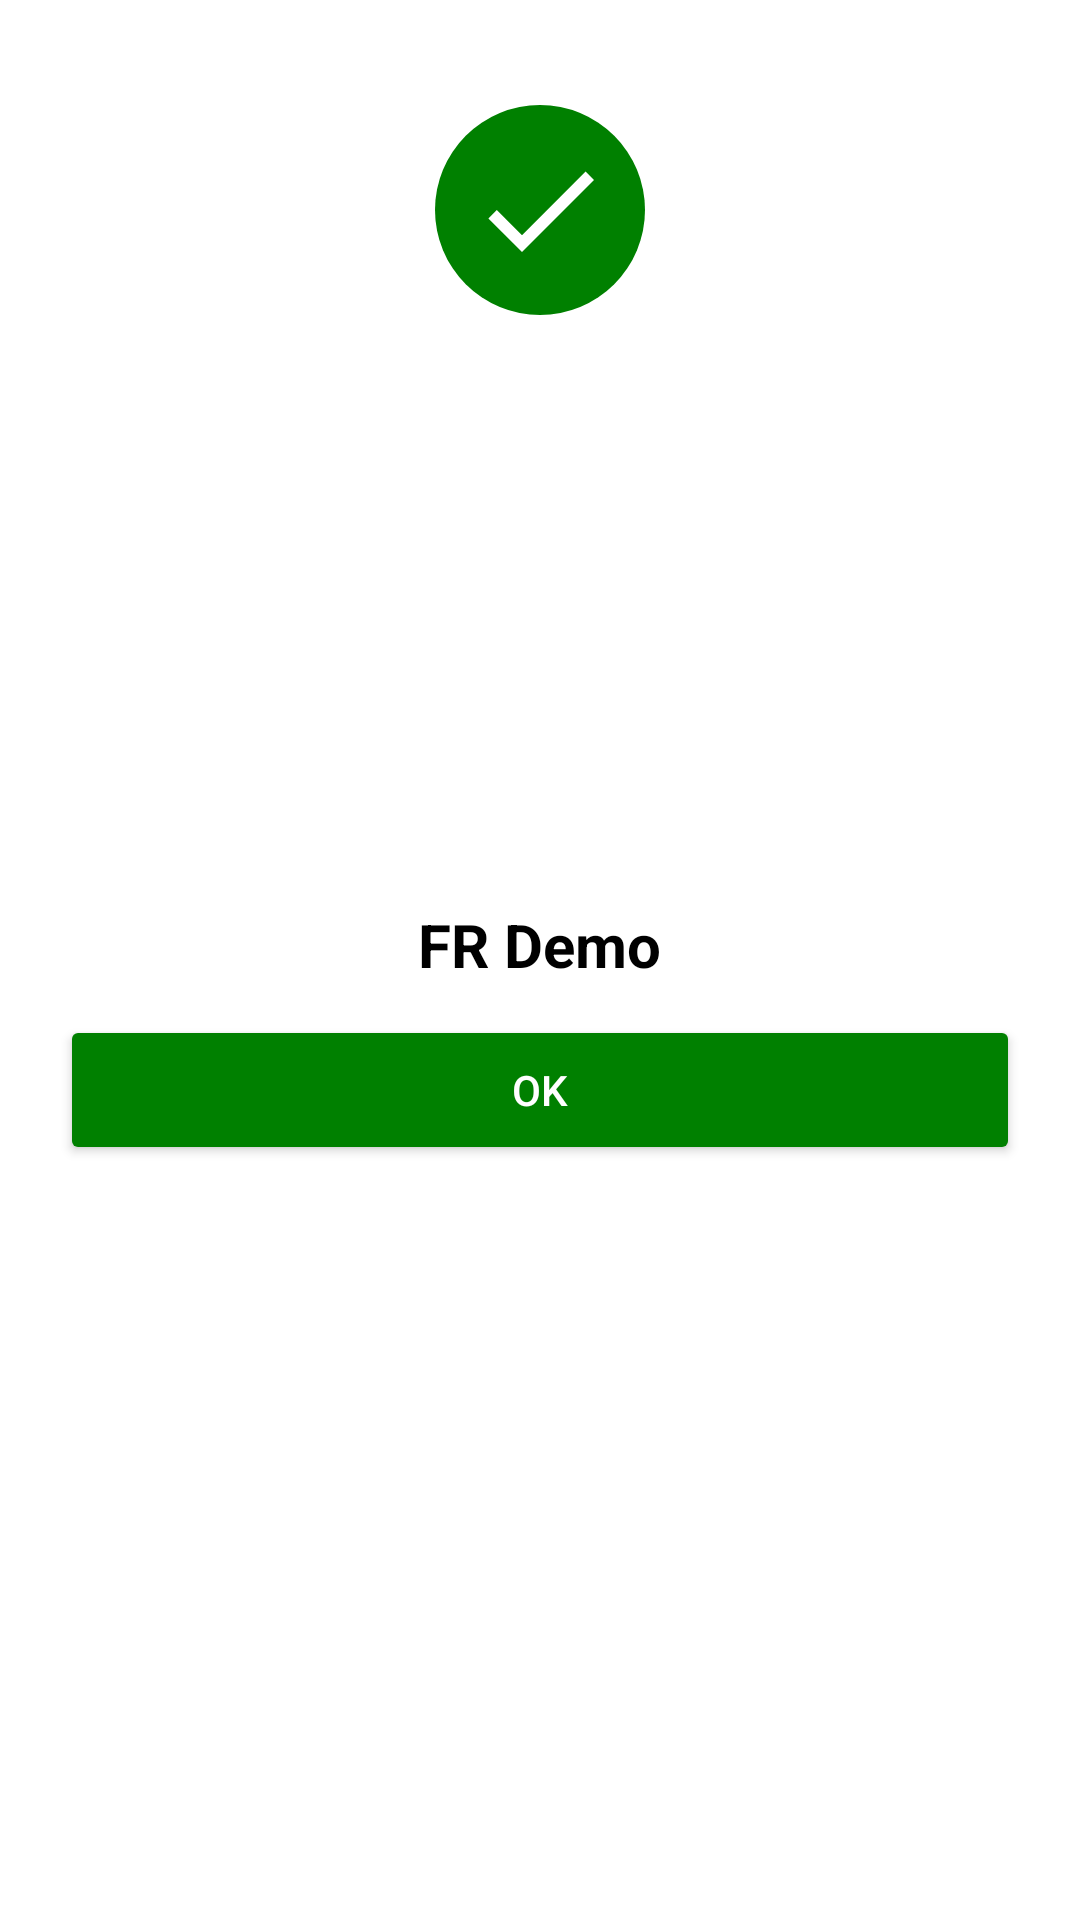

Icons on this 1080x1920 Android screen, each with its box as (x1, y1, x2, y2):
done: (488, 171, 594, 252)
